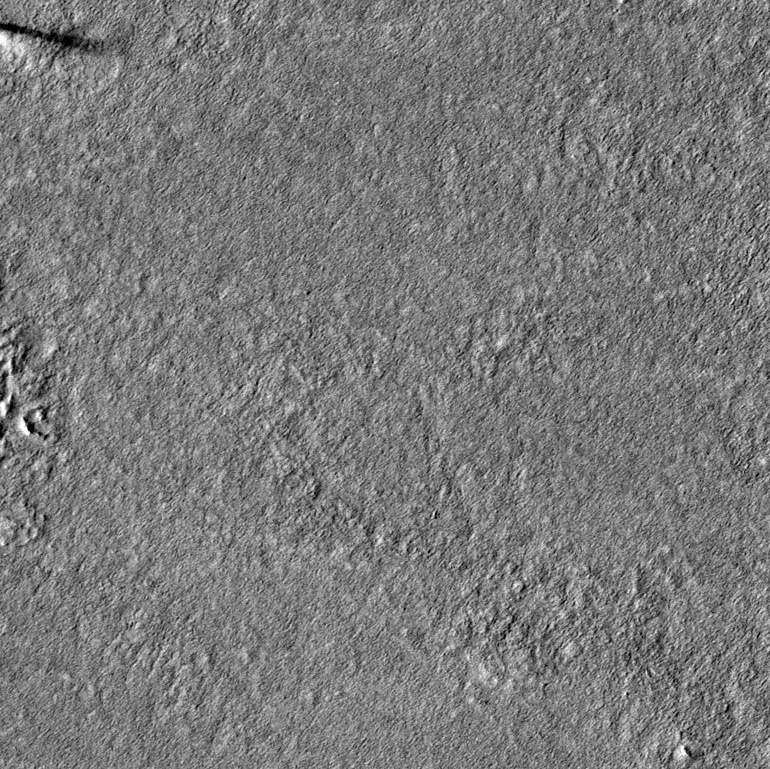dust_devil: (1, 19, 107, 65)
